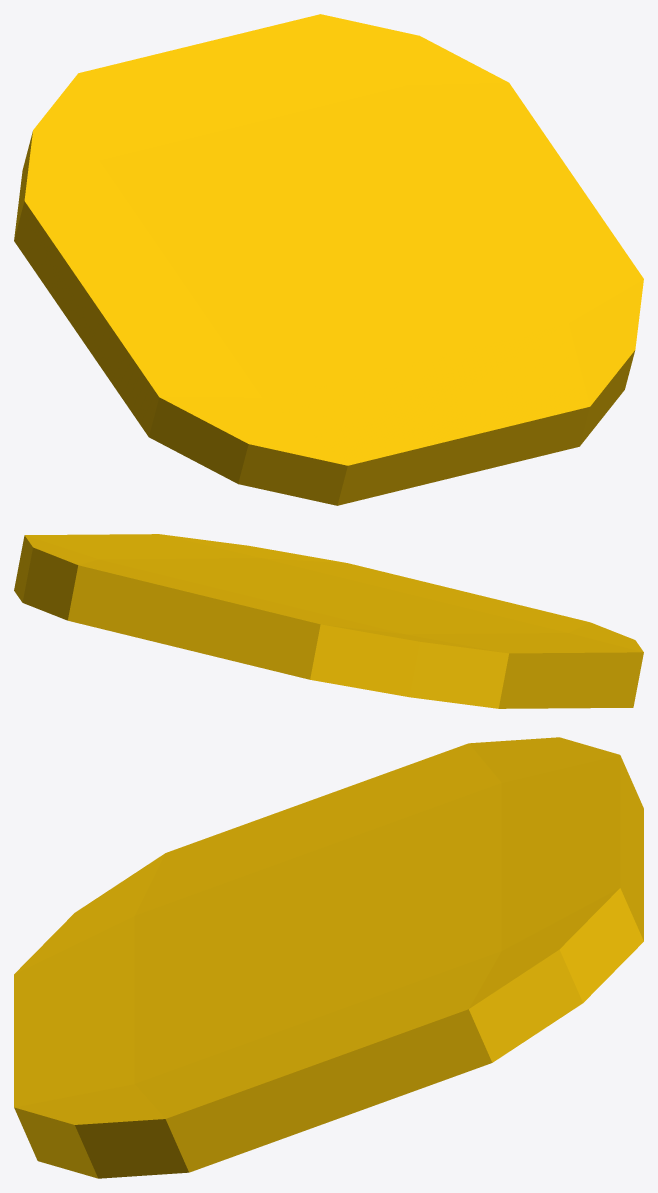
File: Coin.fbx
3 views of the same model, one above another, from view 1: azimuth 30°, elevation 25°; view 2: azimuth 150°, elevation 25°; view 3: azimuth 270°, elevation 25° (orthographic). The views are drawn at different scales.
Parts seen in each view (by area): view 1: Coin; view 2: Coin; view 3: Coin.
Boxes of the visible parts, <box> form: Coin: <box>14,14,643,505</box>; Coin: <box>14,534,643,708</box>; Coin: <box>14,737,643,1178</box>.
Bounding box in the file's own units: 0.1467 × 0.0703 × 0.1469.
1 material, 1 textured.
